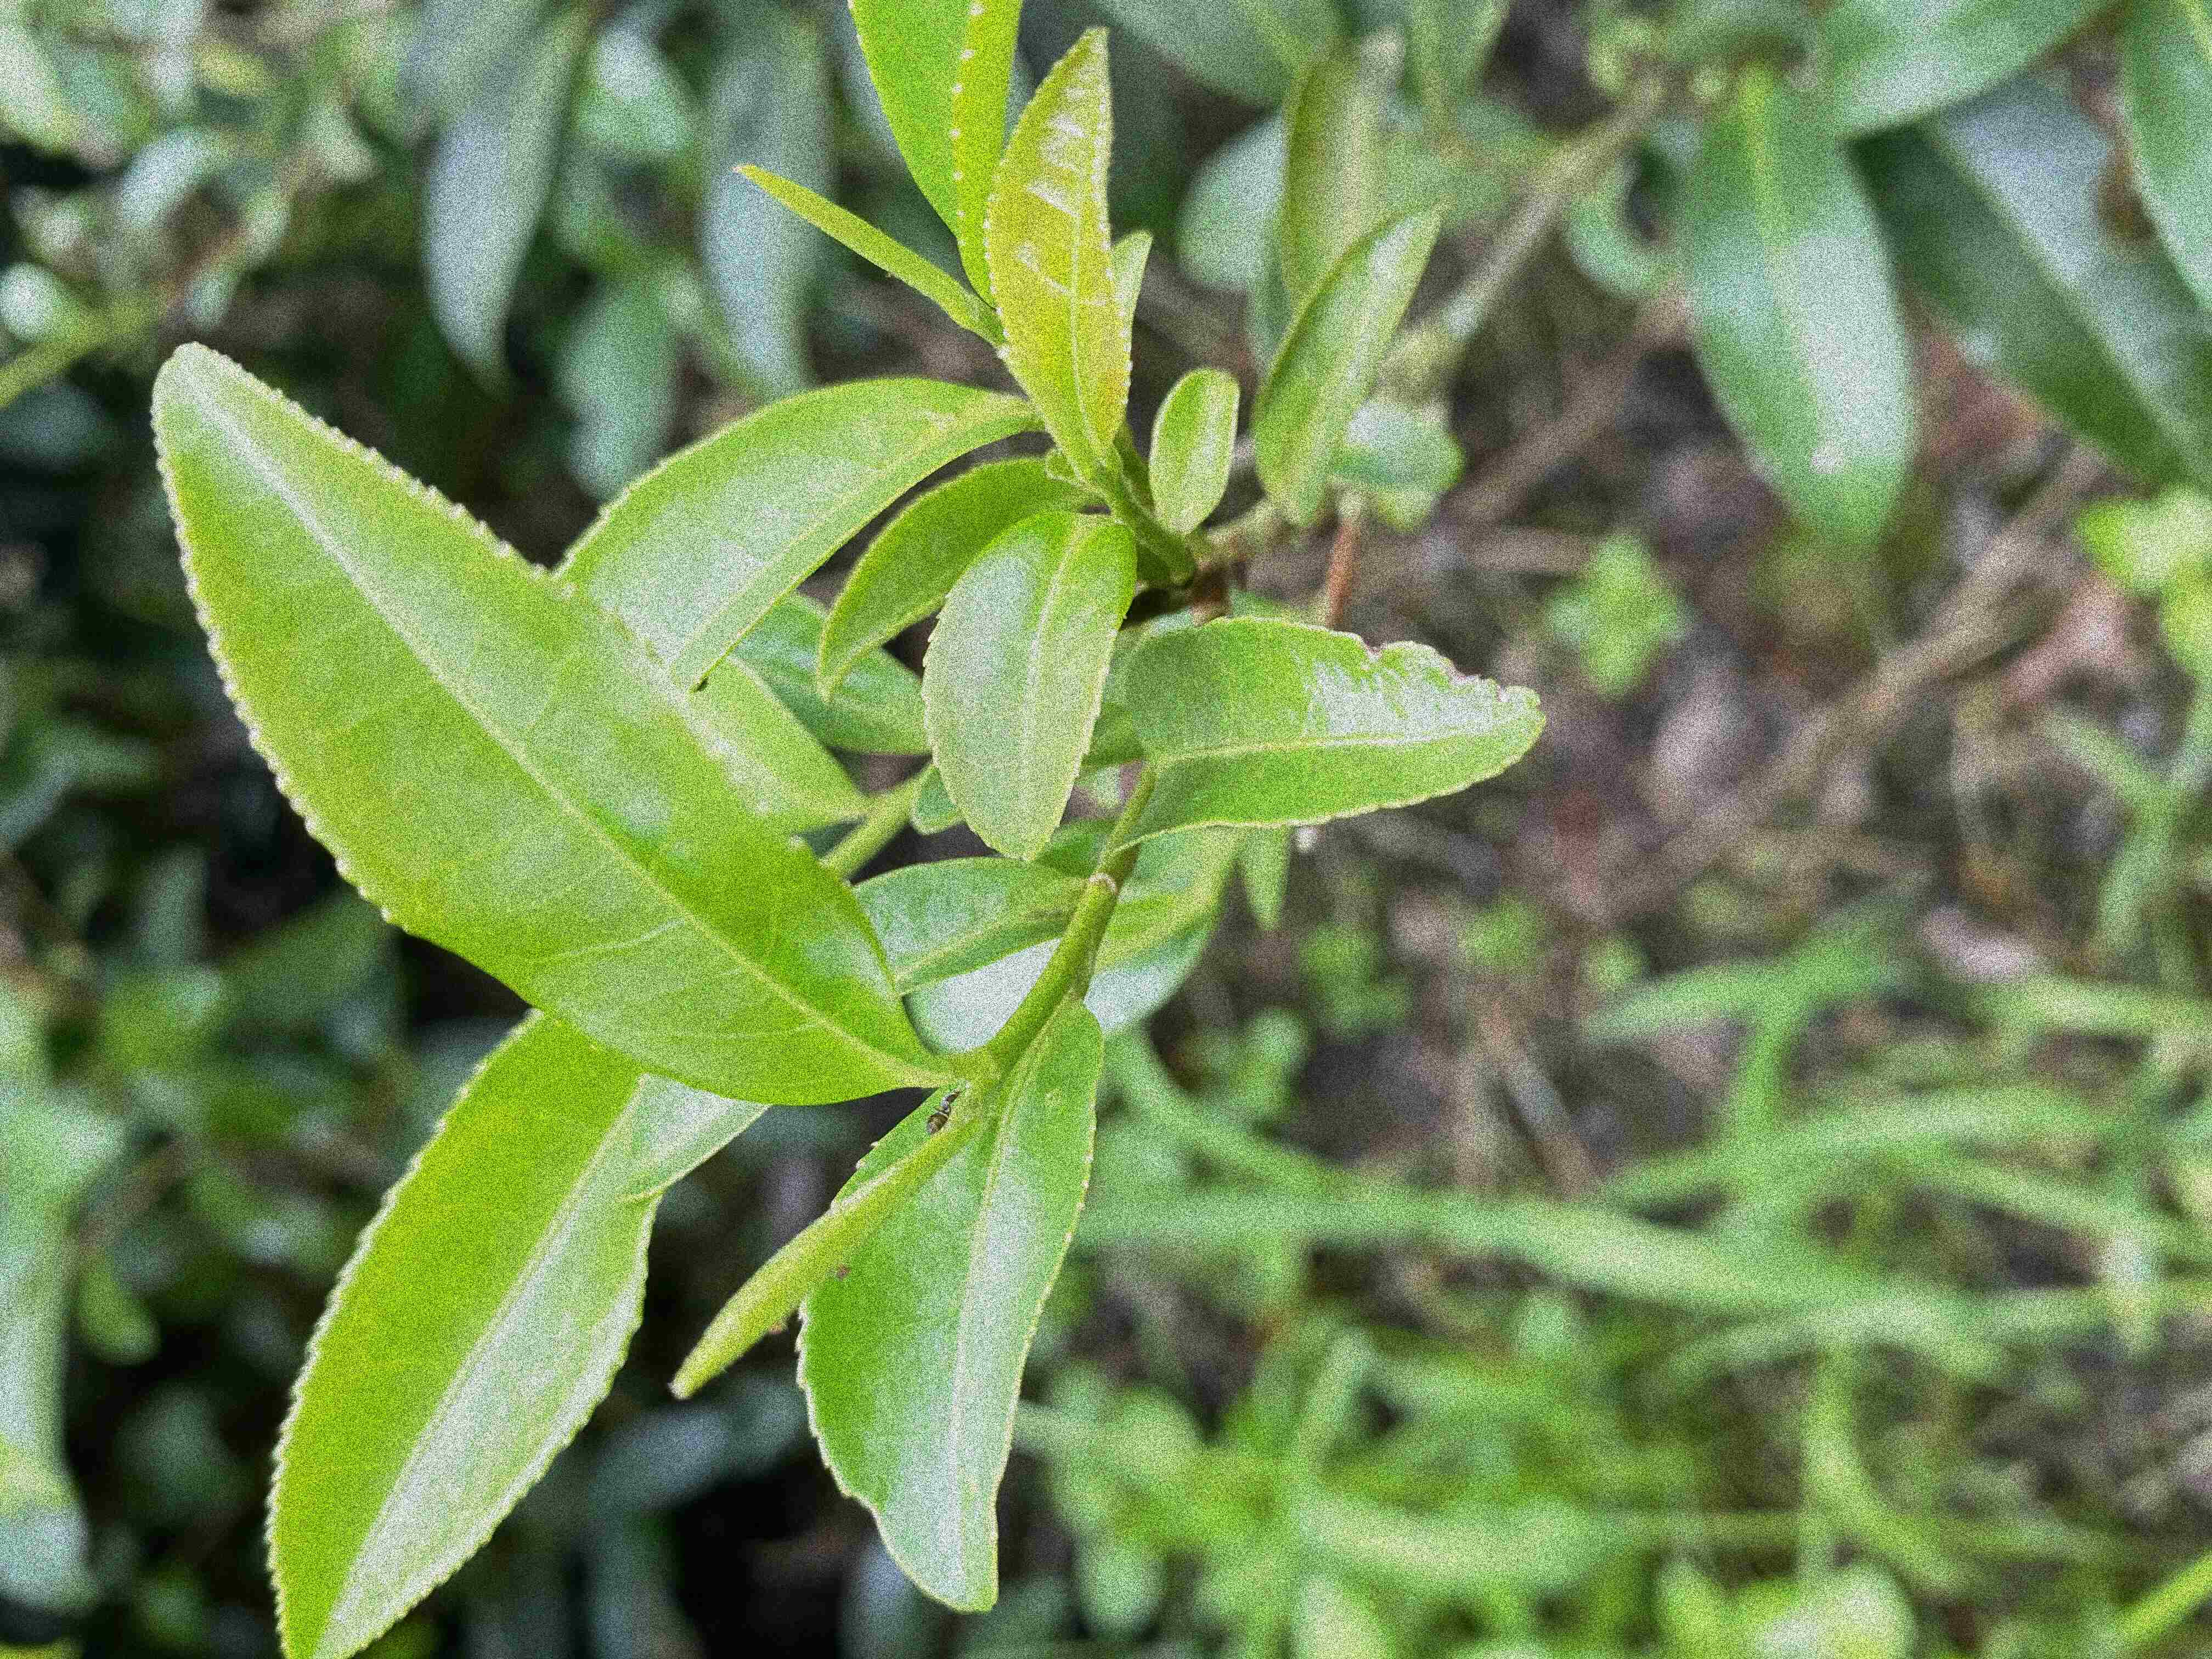healthy: (148, 336, 948, 1108), (253, 1030, 667, 1657), (799, 1002, 1108, 1614), (571, 380, 1031, 688), (921, 511, 1137, 861), (812, 460, 1087, 702)
tanju_low: (1111, 615, 1550, 859), (988, 24, 1136, 453)
